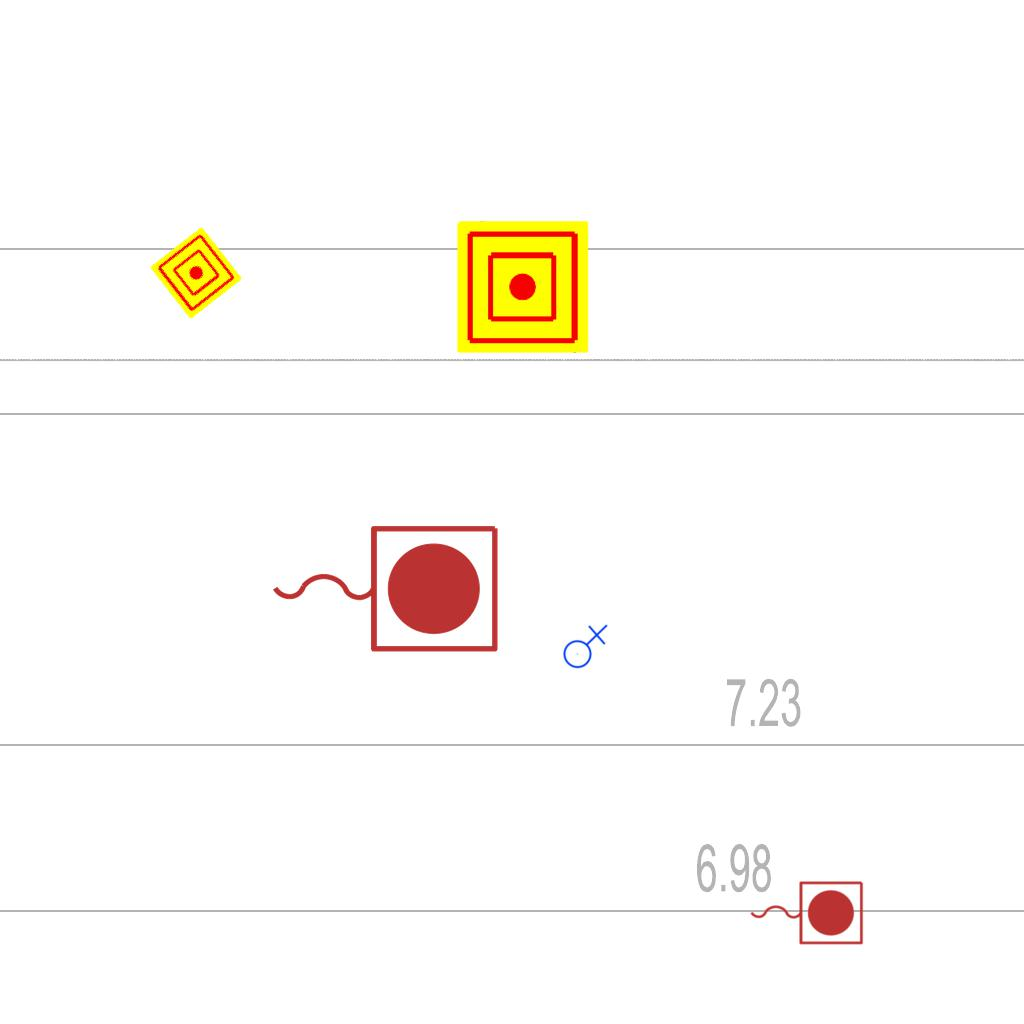Elektroanschluss_allgemein_230V_Geraeteanschlussdose_230V: (559, 622, 608, 669)
NAM-Nichtautomatischer_Melder: (457, 221, 589, 353), (149, 226, 243, 320)
Zugtaster: (262, 515, 506, 659), (745, 876, 867, 948)
